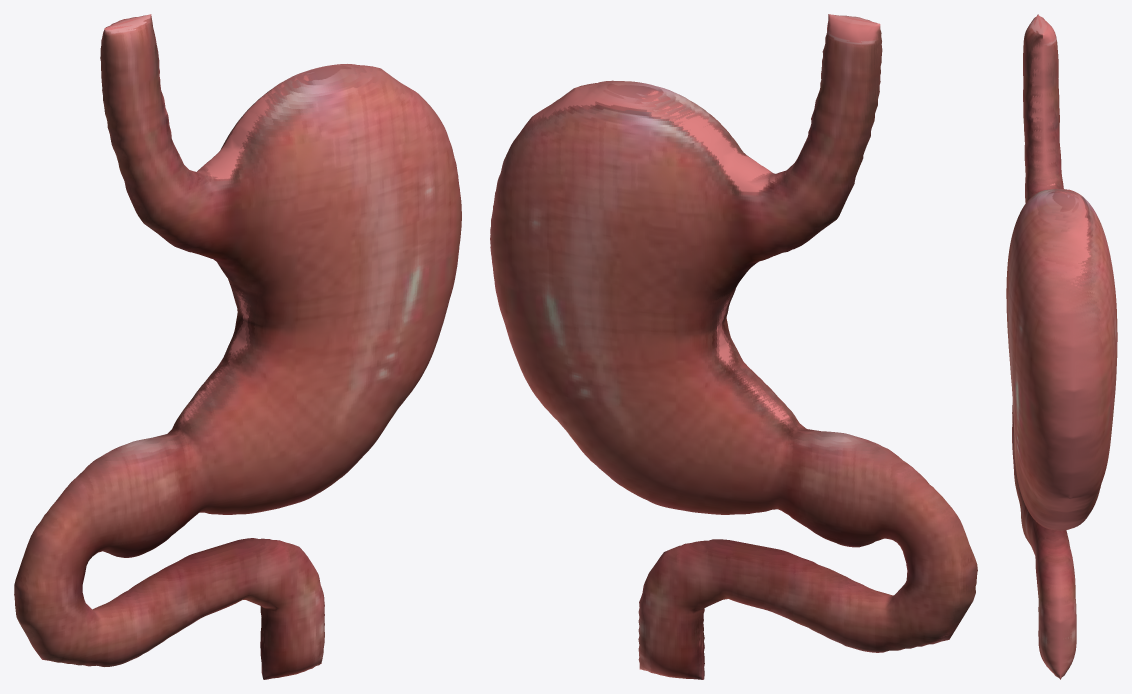
File: Kerongkongan dan lambung.glb
3 renders of one model, left to right at view 1: azimuth 30°, elevation 25°; view 2: azimuth 150°, elevation 25°; view 3: azimuth 270°, elevation 25°, orthographic. The views are drawn at different scales.
Parts seen in each view (by area): view 1: Object_5; view 2: Object_5; view 3: Object_5.
Boxes of the visible parts, box(x1,y1,x2,y2) form: Object_5: box(14, 14, 461, 679); Object_5: box(490, 14, 977, 679); Object_5: box(1006, 14, 1117, 679).
Bounding box in the file's own units: 0.2192 × 0.3184 × 0.0558.
Materials: 1 (1 with a texture image).
